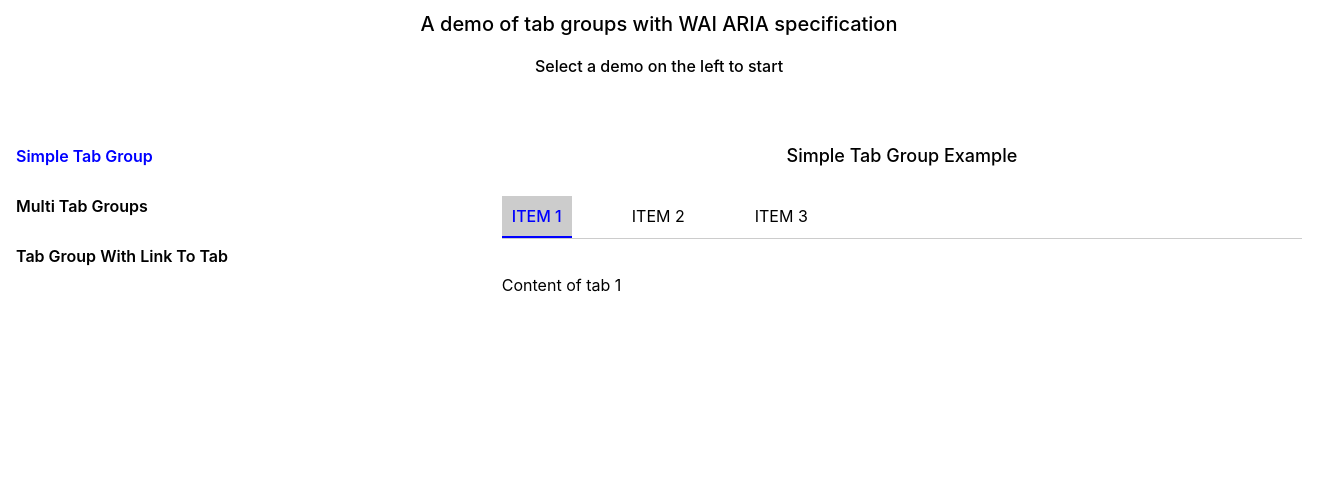
Test: App component › click Tab Group With Link To Tab, tab group with link to tab component will be shown
Click the text "Tab Group With Link To Tab". click: {"x": 122, "y": 256}
box: x1=16 y1=246 x2=228 y2=266
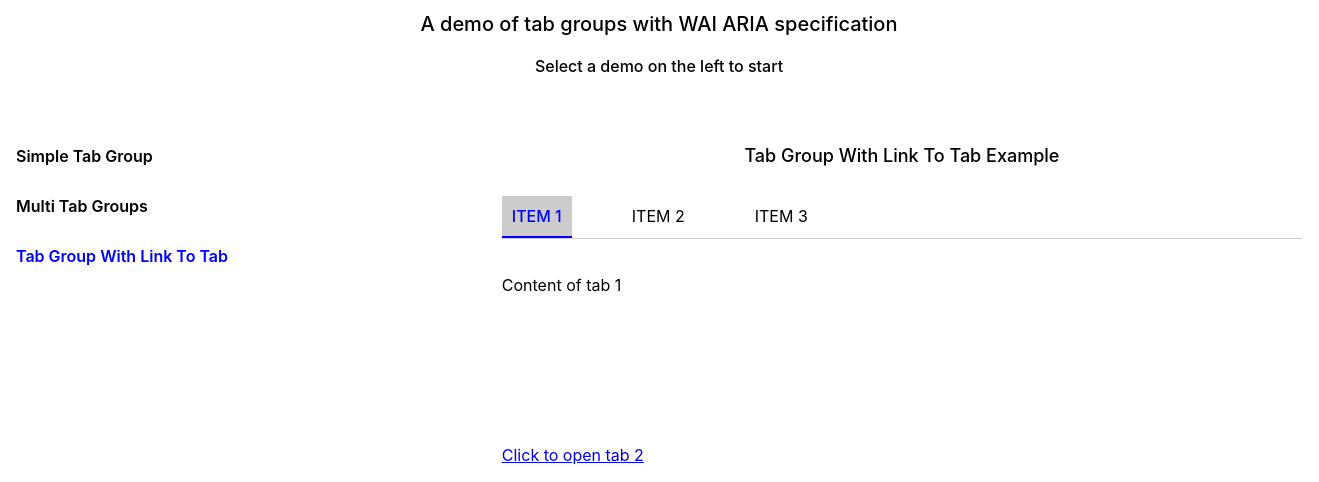
Expected: the tab "ITEM 1" is shown, x1=502 y1=196 x2=572 y2=238
Now the text "Tab Group With Link To Tab Example" is shown, box x1=744 y1=145 x2=1059 y2=166
Now the link "Click to open tab 2" is shown, box x1=502 y1=445 x2=644 y2=465
